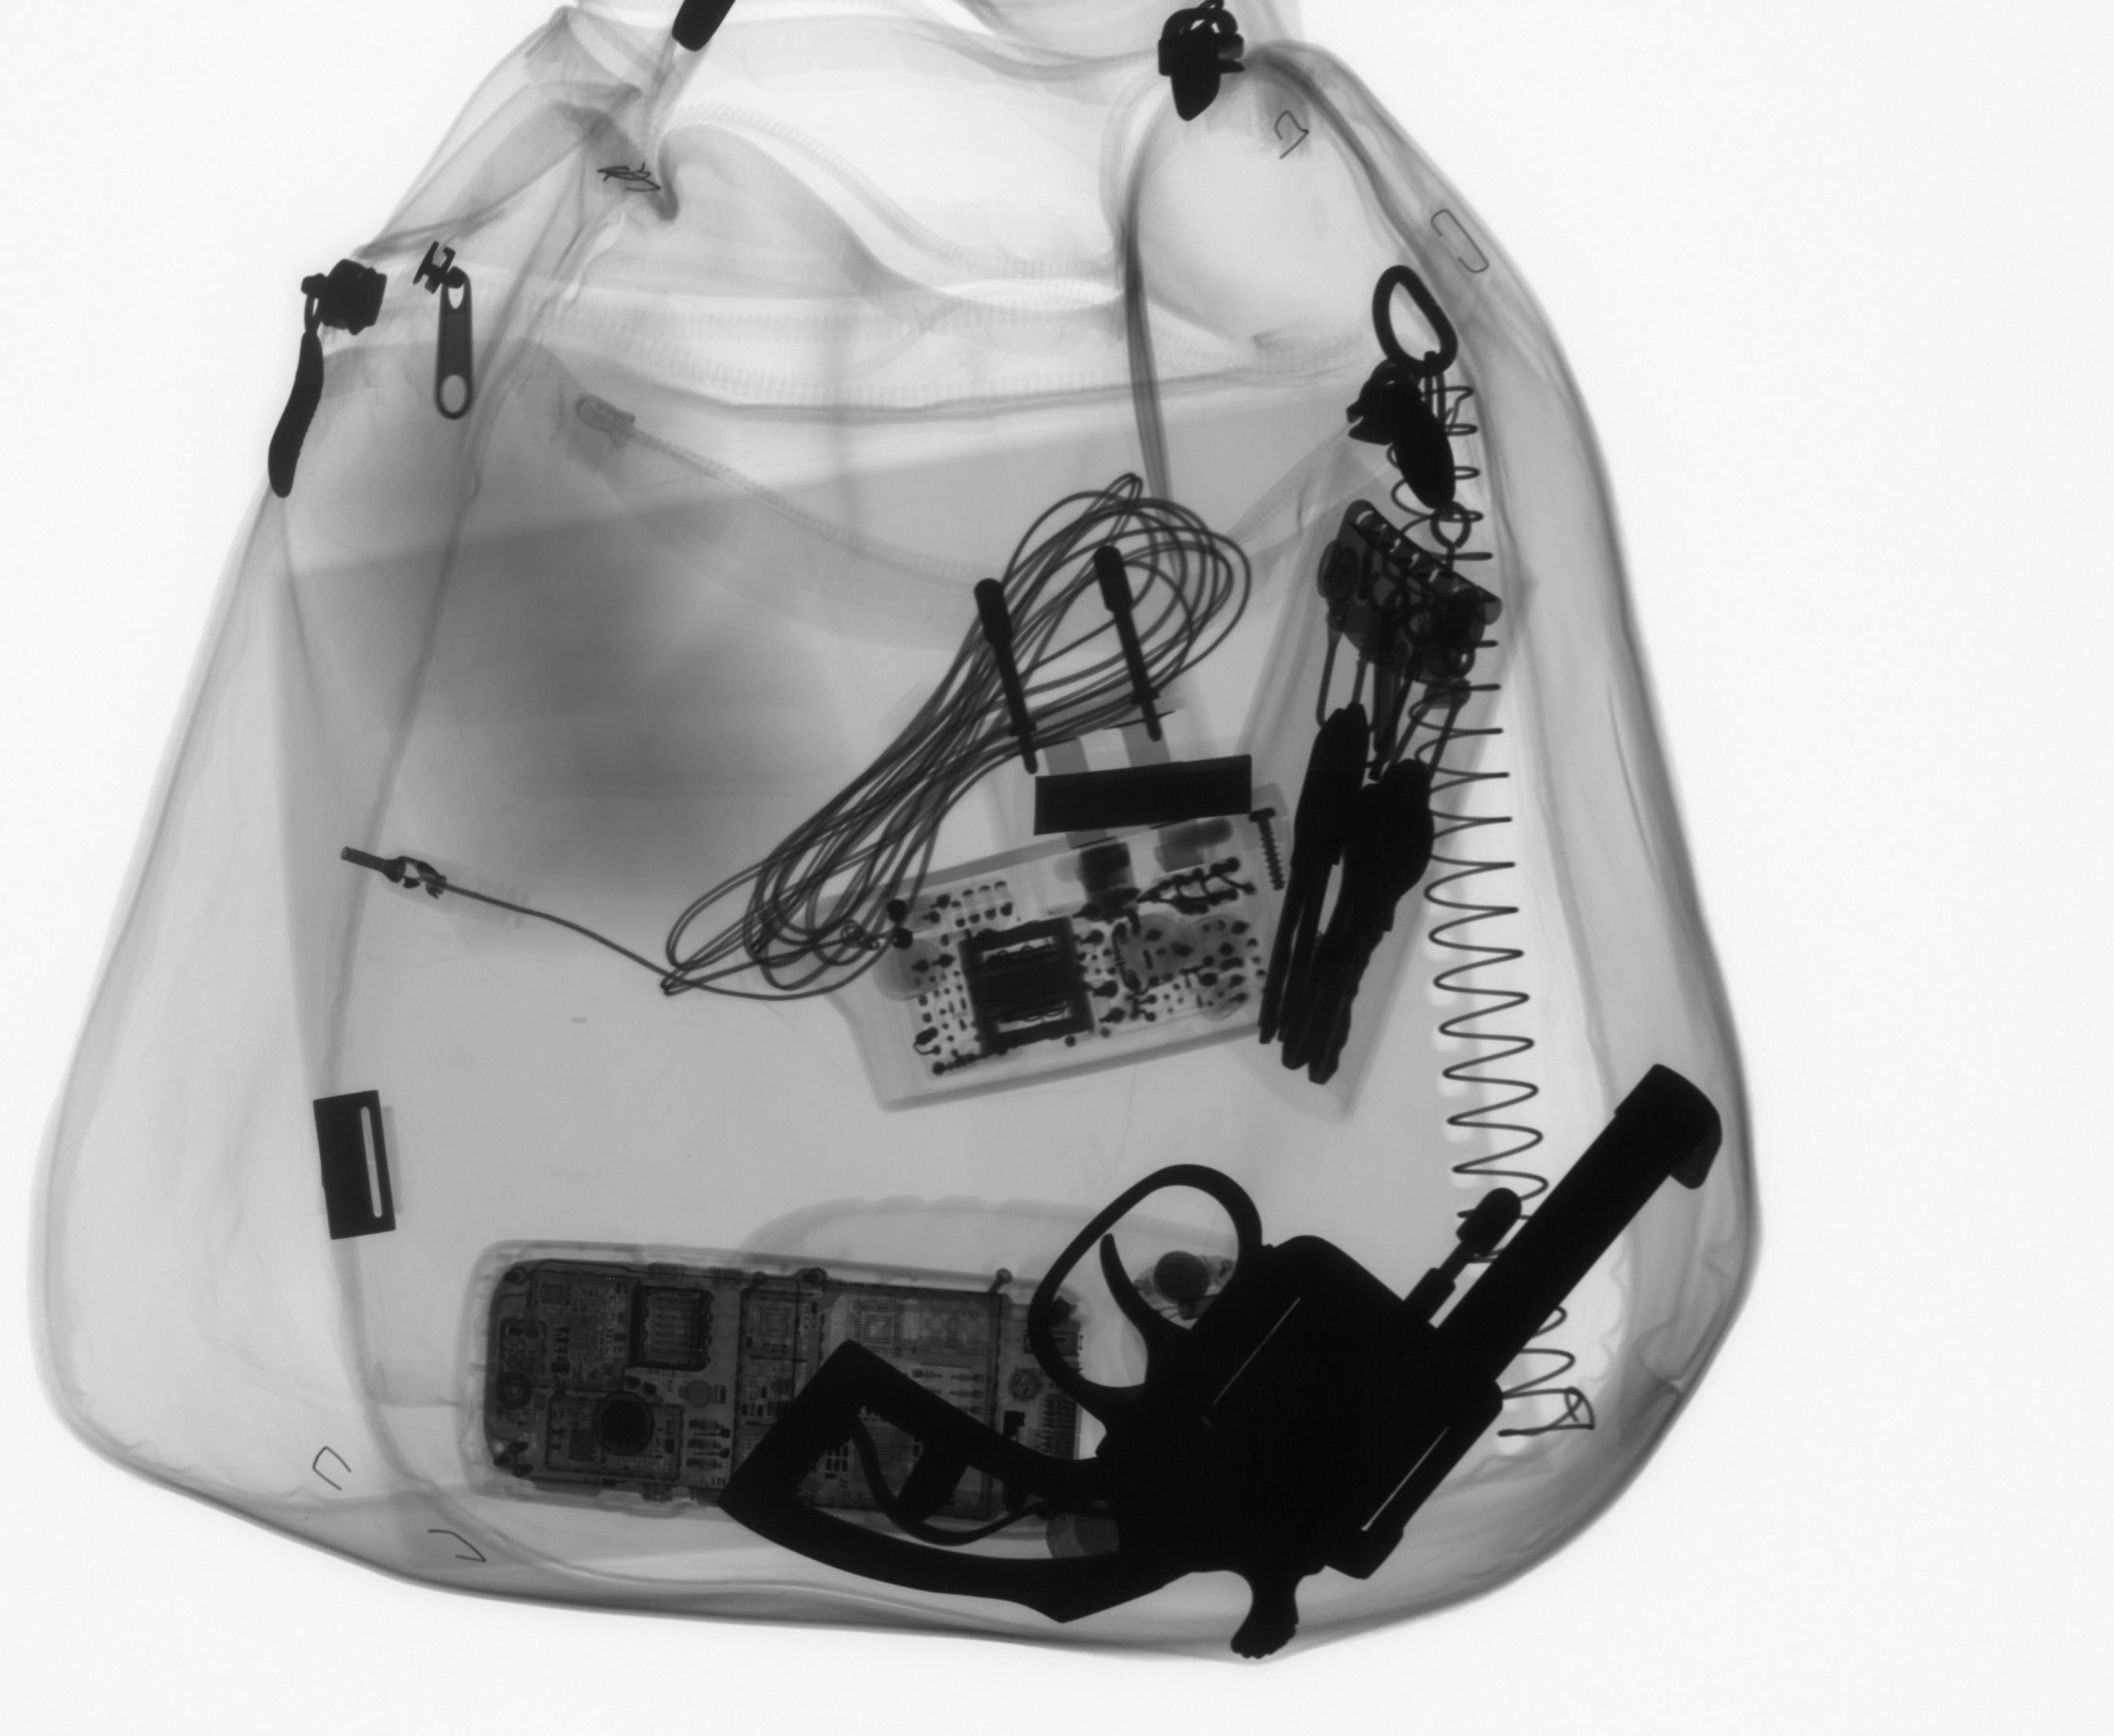Handgun: (716, 1059, 1735, 1665)
